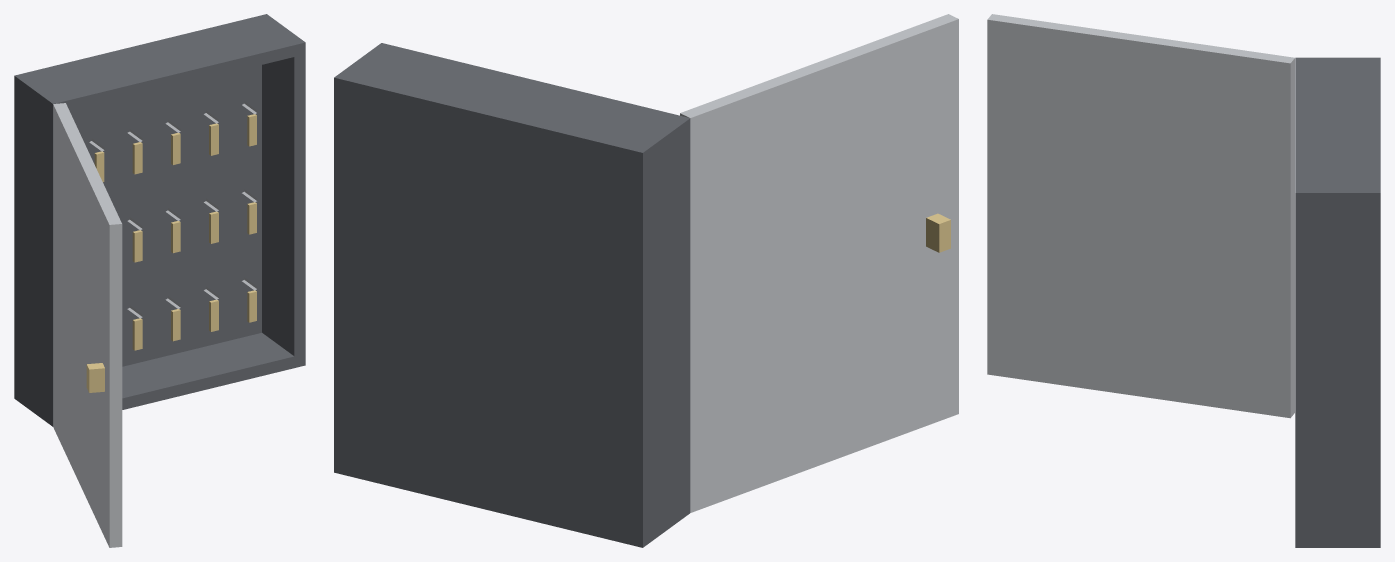
Rendered from bank-vault-heist-kit-key-cabinet-c935c5da__25080.glb.
The picture shows the model from 3 angles, left to right: view 1: azimuth 30°, elevation 25°; view 2: azimuth 150°, elevation 25°; view 3: azimuth 270°, elevation 25°; orthographic projection. The views are drawn at different scales.
Parts seen in each view (by area): view 1: key-cabinet, cabinet-door (×2); view 2: key-cabinet, cabinet-door (×2); view 3: cabinet-door, key-cabinet.
Part boxes in pixels (x1,y1,x2,y2): key-cabinet: [14, 14, 305, 426]; cabinet-door (×2): [53, 103, 122, 547]; key-cabinet: [334, 43, 690, 547]; cabinet-door (×2): [680, 14, 958, 512]; cabinet-door: [987, 14, 1294, 418]; key-cabinet: [1295, 57, 1380, 547].
Size of the model in its own units: 0.6078 by 0.55 by 0.5523.
